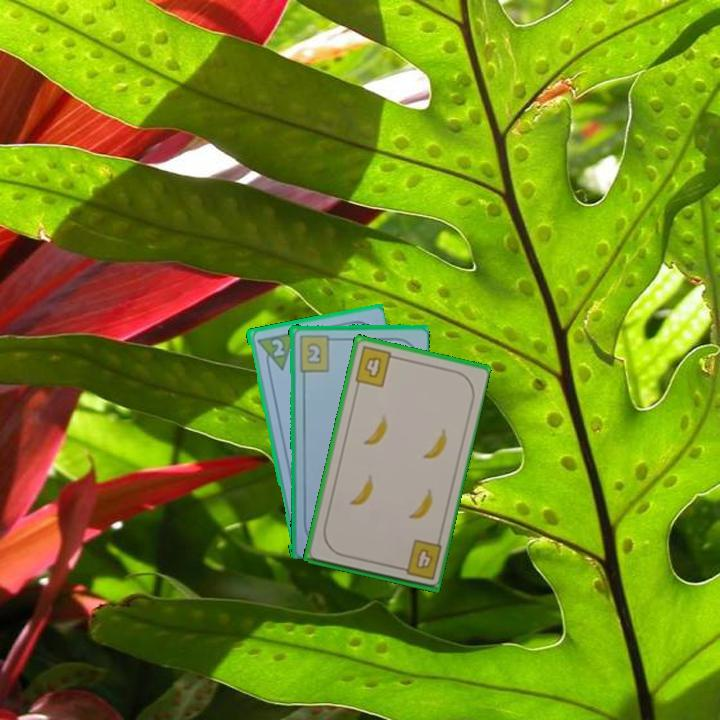2b: (296, 332, 338, 374)
2p: (268, 335, 287, 359)
4b: (393, 536, 444, 583), (351, 343, 400, 390)
